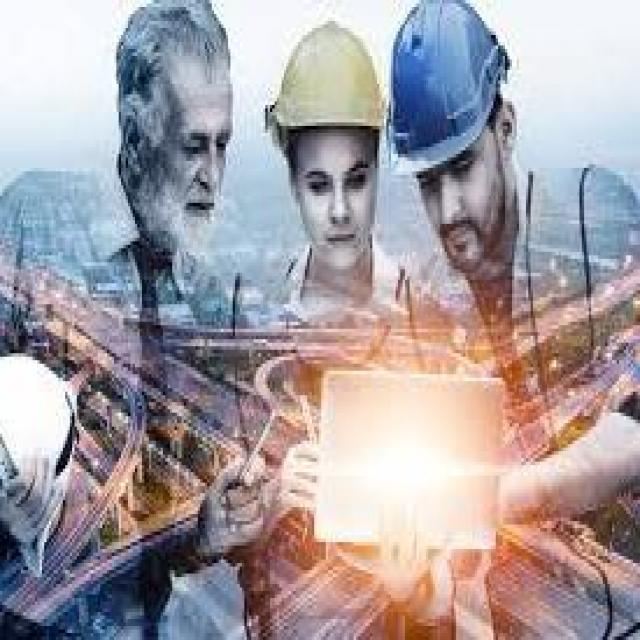Safety-Helmet: (382, 3, 512, 178), (265, 18, 389, 150)
